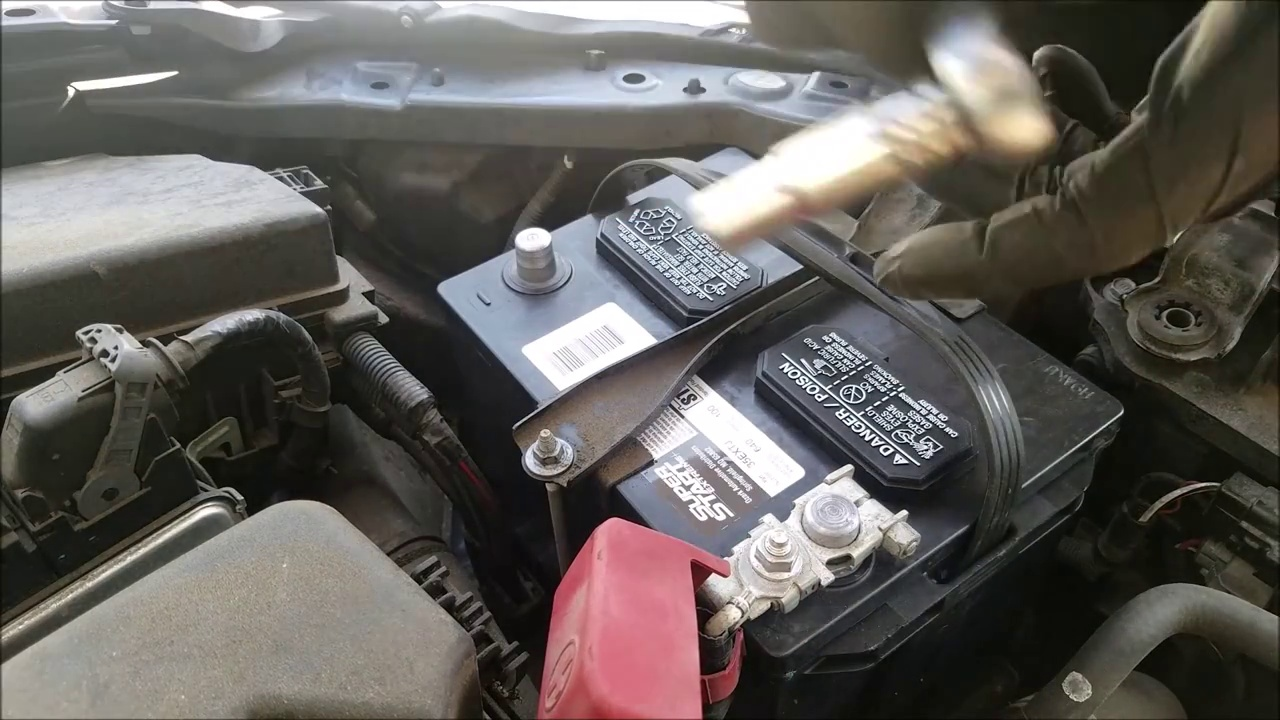battery: (443, 133, 1125, 692)
neg_disconnected: (475, 192, 595, 307)
pos_connected: (539, 473, 915, 690)
